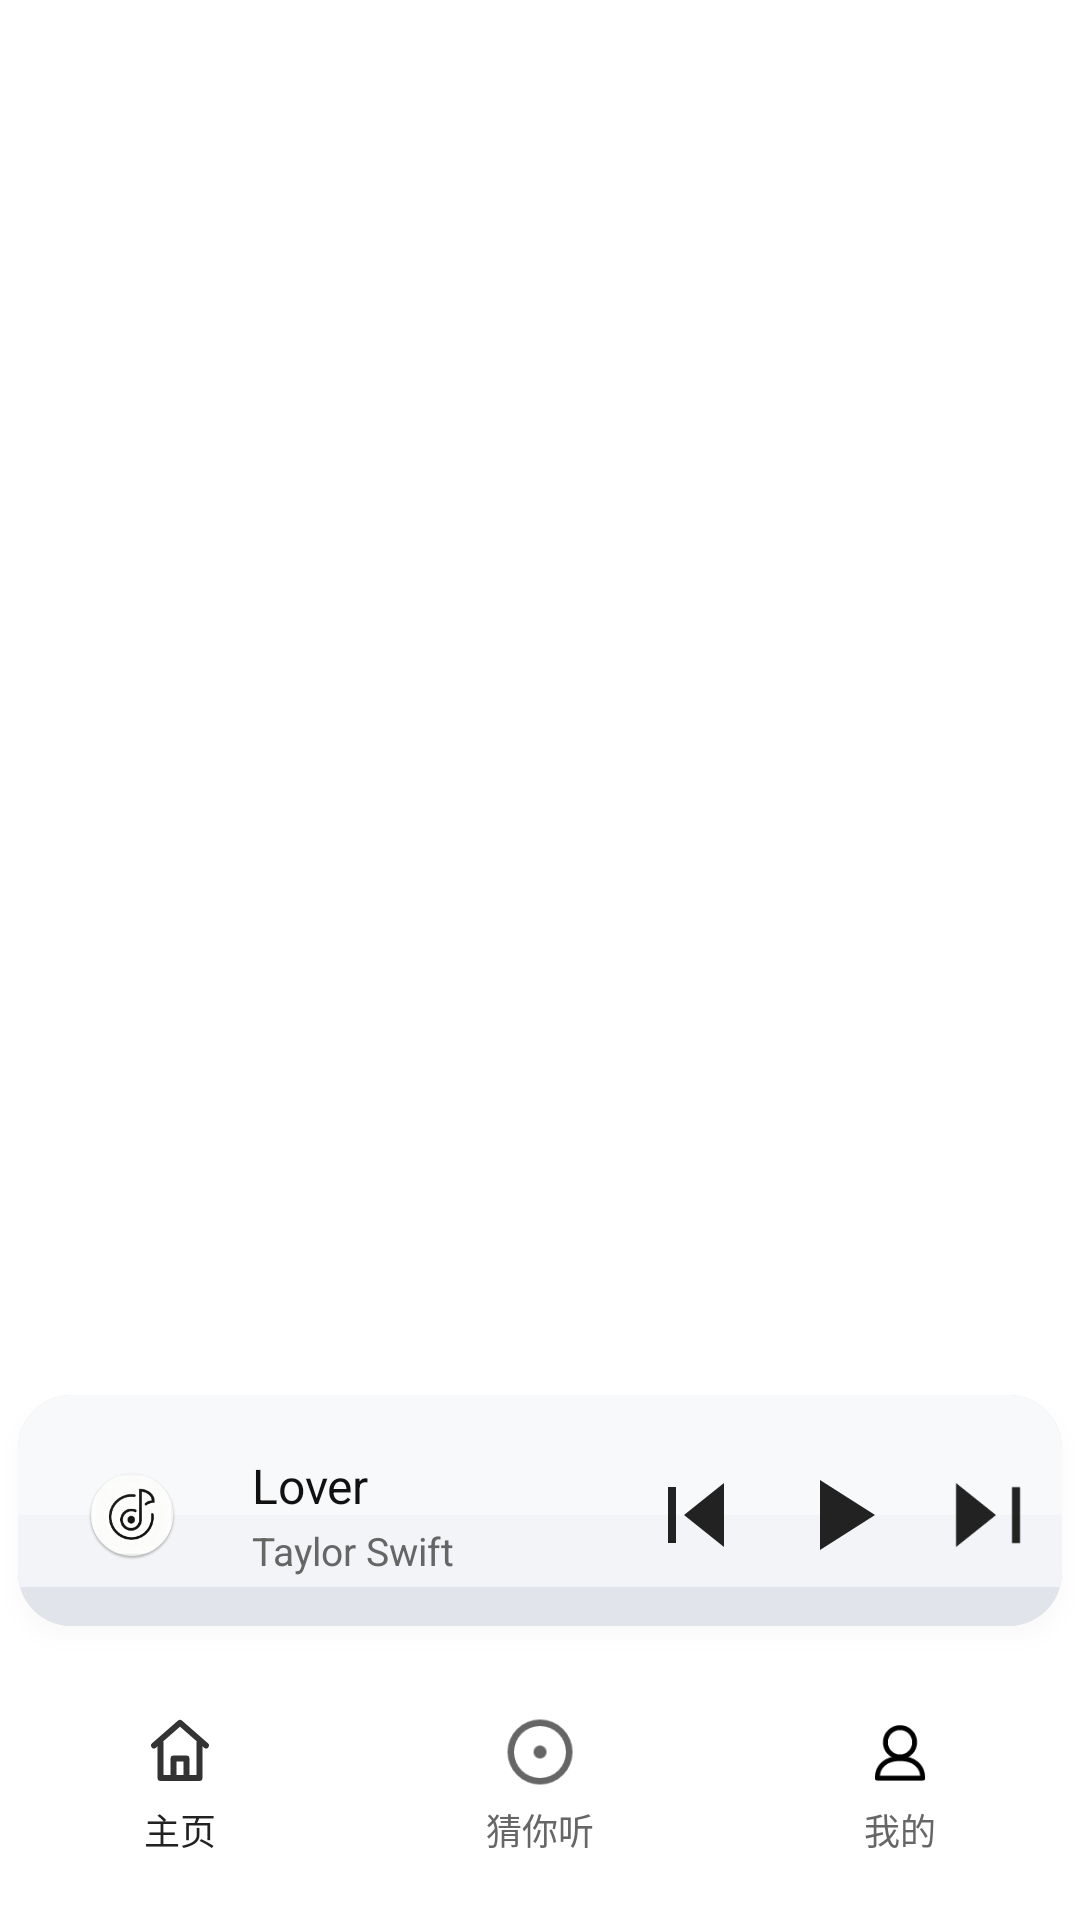

Locate icon controls on the screen. Image size 1080×1920, boxes as [x1,y1,x2,y2].
next: [955,1483,1021,1547]
play triangle: [820,1480,875,1550]
prev: [668,1483,724,1547]
